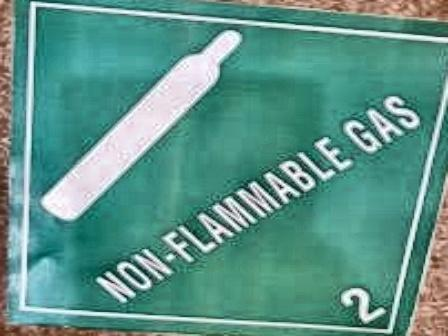non-flammable-gas: (1, 1, 448, 336)
